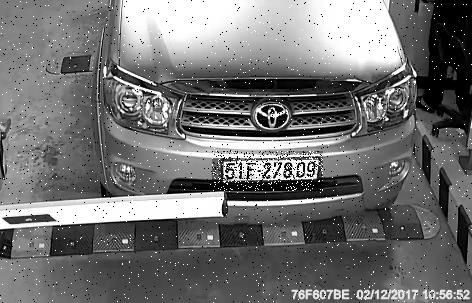License-plate: (213, 152, 324, 192)
